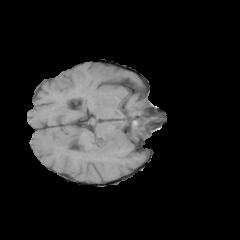glioma: (67, 127, 135, 154)
